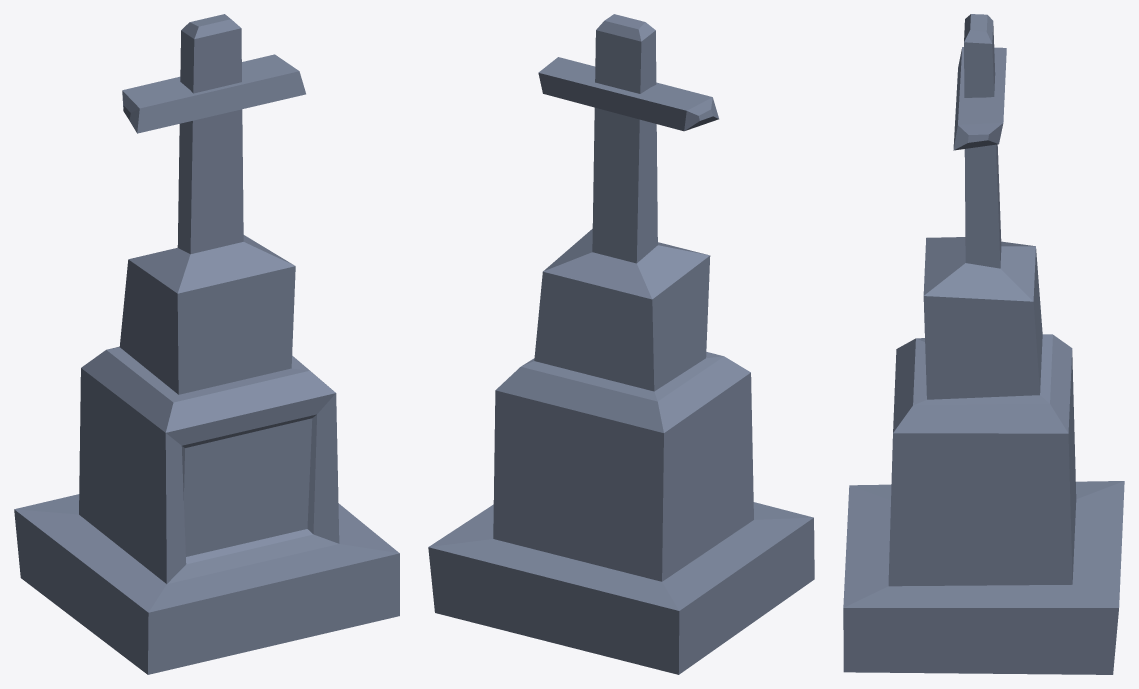
Rendered from thombstone.glb.
The picture shows the model from 3 angles, left to right: view 1: azimuth 30°, elevation 25°; view 2: azimuth 150°, elevation 25°; view 3: azimuth 270°, elevation 25°; orthographic projection. The views are drawn at different scales.
Visible parts, largest first — view 1: Cube; view 2: Cube; view 3: Cube.
Part boxes in pixels (x1,y1,x2,y2): Cube: (14, 14, 399, 674); Cube: (428, 14, 814, 674); Cube: (843, 14, 1124, 674).
Size of the model in its own units: 0.5312 by 1.14 by 0.4943.
